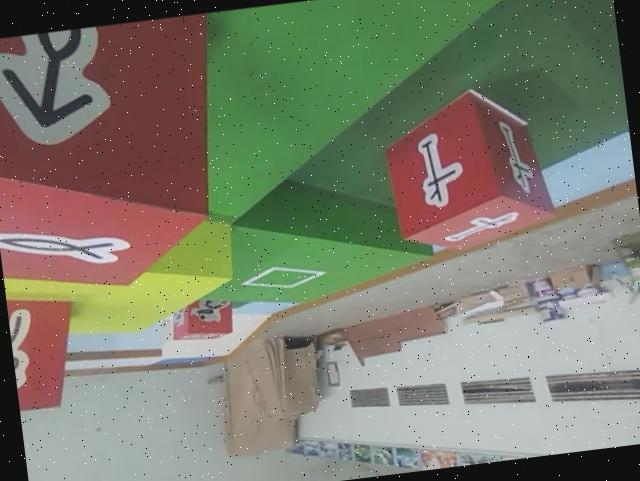R1: (163, 289, 237, 348)
R2 Fake: (4, 282, 92, 418)
R2 Real: (0, 12, 241, 306), (372, 80, 559, 259)
